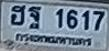letters: (27, 5, 42, 30), (10, 4, 26, 26), (92, 10, 106, 33), (66, 9, 79, 30), (81, 10, 91, 31), (55, 8, 64, 30)
province: (16, 32, 93, 47)
